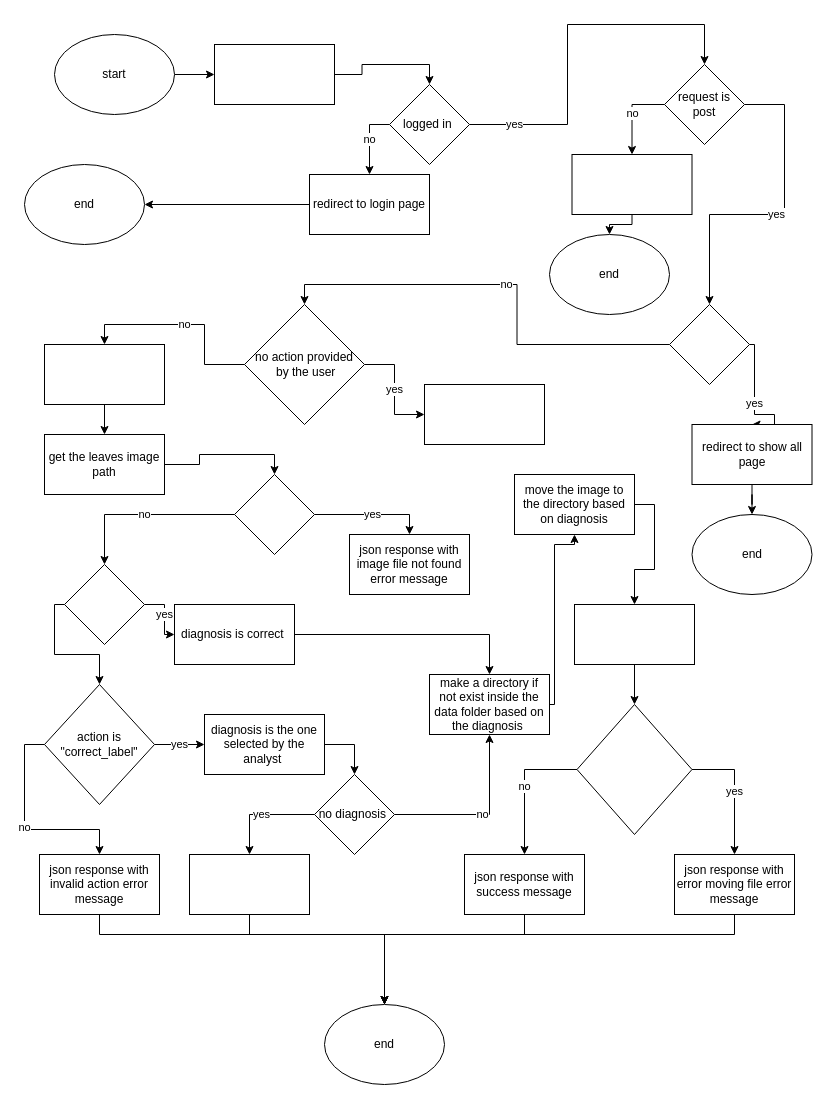
Some shapes in this 830 by 1102 pixel diagram are drawn without their labels. The shapes that lost their labels are listed below. From the top down, each one's centre as x and y in pixels, then its label:
[274,74]: fetch request and id
[631,184]: json response with invalid request error message
[709,344]: not an ajax request
[104,374]: get the image by its id
[484,414]: json response with action not provided error message
[274,514]: path doesnt exist
[104,604]: action is "right"
[634,634]: delete the image from the database
[634,769]: error accured during the directory creation
[249,884]: json response with diagnosis not provided error message
